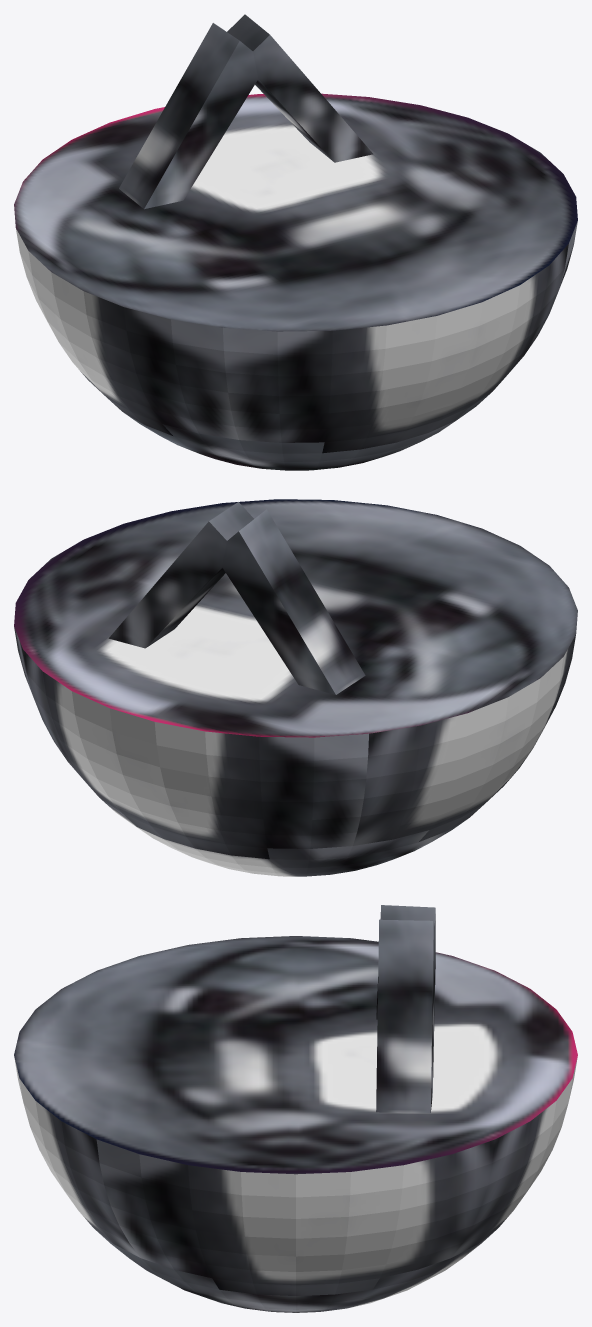
File: nightmare_begin.gltf
The picture shows the model from 3 angles, top to bottom: view 1: azimuth 30°, elevation 25°; view 2: azimuth 150°, elevation 25°; view 3: azimuth 270°, elevation 25°; orthographic projection.
Visible parts, largest first — view 1: Sphere-col, gate-col; view 2: Sphere-col, gate-col; view 3: Sphere-col, gate-col.
Boxes of the visible parts, left/top/right/bottom form: Sphere-col: left=14, top=93, right=577, bottom=470; gate-col: left=119, top=14, right=373, bottom=209; Sphere-col: left=14, top=499, right=577, bottom=876; gate-col: left=108, top=502, right=365, bottom=694; Sphere-col: left=14, top=936, right=577, bottom=1312; gate-col: left=376, top=905, right=435, bottom=1113.
Size of the model in its own units: 2.39 by 1.75 by 2.39.
1 material, 1 textured.
